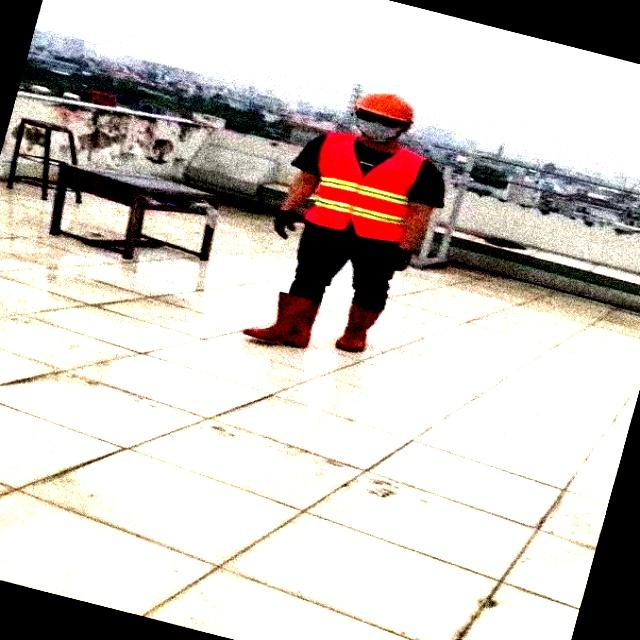helmet: (358, 87, 422, 124)
safety_vest: (306, 128, 434, 267)
